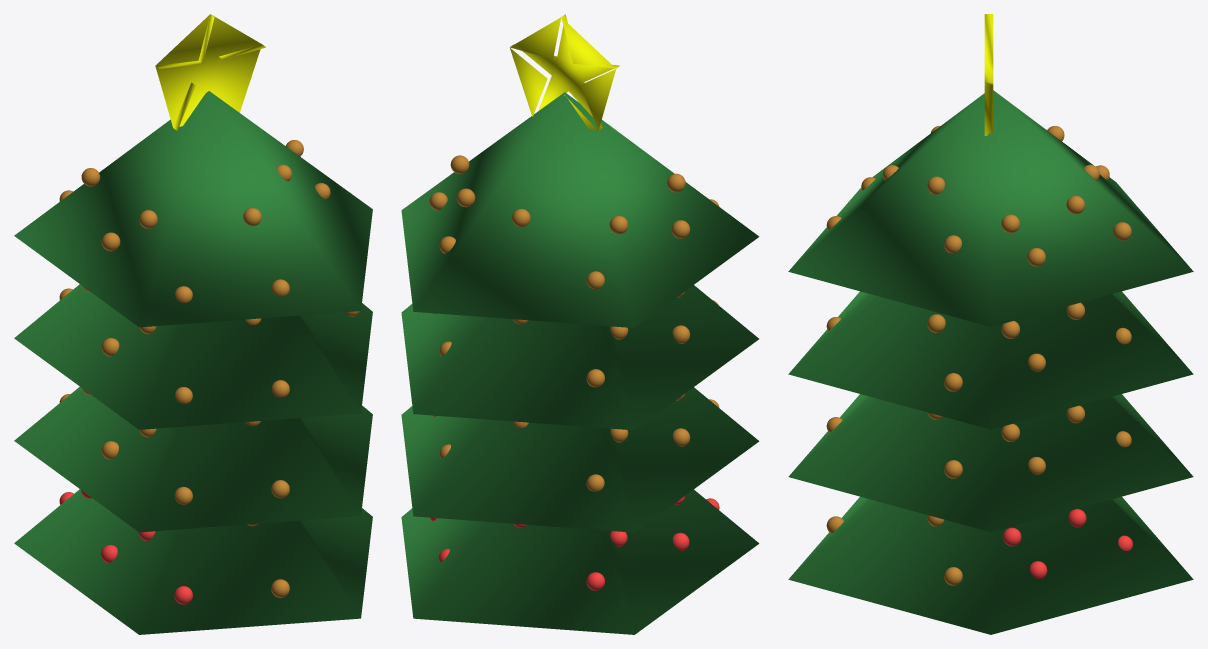
File: ChristmasTree.glb
The picture shows the model from 3 angles, left to right: view 1: azimuth 30°, elevation 25°; view 2: azimuth 150°, elevation 25°; view 3: azimuth 270°, elevation 25°; orthographic projection.
Visible parts, largest first — view 1: Cylinder001, Star001; view 2: Cylinder001, Star001; view 3: Cylinder001, Star001.
Part boxes in pixels (<box>): Cylinder001: <box>14,91,372,634</box>; Star001: <box>155,14,265,130</box>; Cylinder001: <box>401,92,759,634</box>; Star001: <box>510,14,619,130</box>; Cylinder001: <box>788,90,1193,634</box>; Star001: <box>984,14,993,135</box>.
Size of the model in its own units: 18.29 by 34.7 by 21.66.
